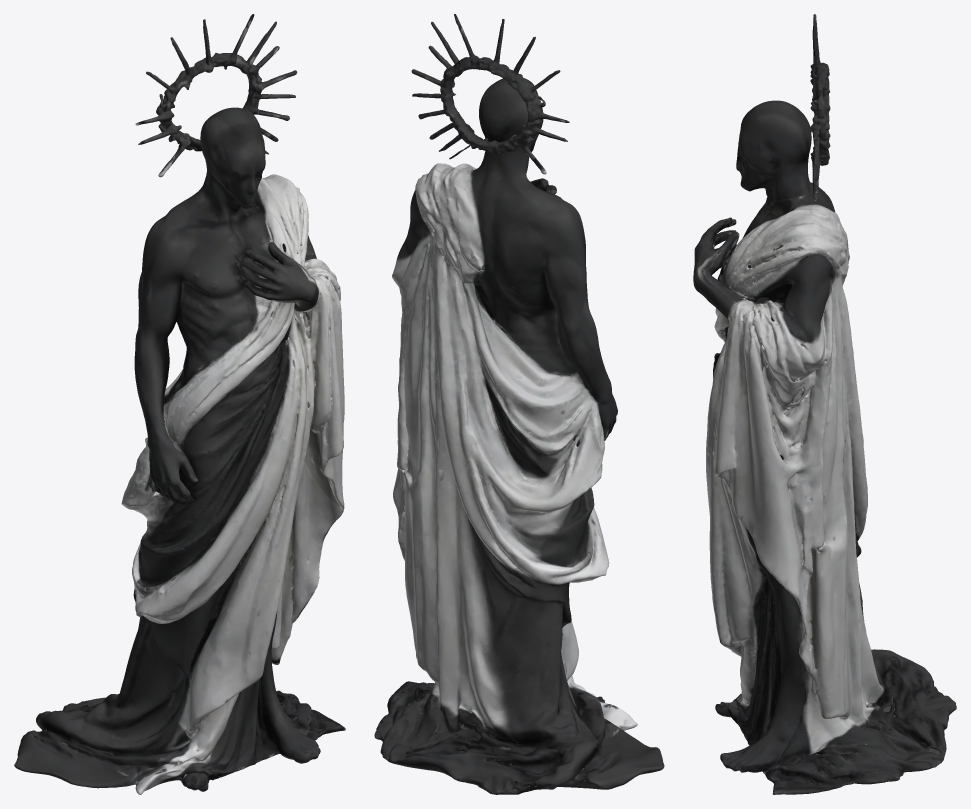
File: ethereal_hades.glb
3 views of the same model, side by side, from view 1: azimuth 30°, elevation 25°; view 2: azimuth 150°, elevation 25°; view 3: azimuth 270°, elevation 25° (orthographic). The views are drawn at different scales.
Visible parts, largest first — view 1: Object_4; view 2: Object_4; view 3: Object_4.
Boxes of the visible parts, left/top/right/bottom form: Object_4: left=14, top=14, right=345, bottom=794; Object_4: left=374, top=14, right=664, bottom=794; Object_4: left=693, top=14, right=956, bottom=794.
Bounding box in the file's own units: 0.8215 × 1.9 × 0.6333.
1 material, 1 textured.
